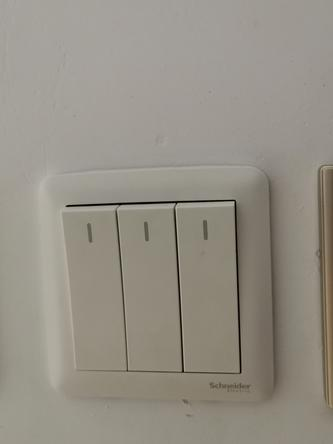switch: (164, 197, 254, 378), (115, 199, 191, 376), (55, 200, 131, 373)
